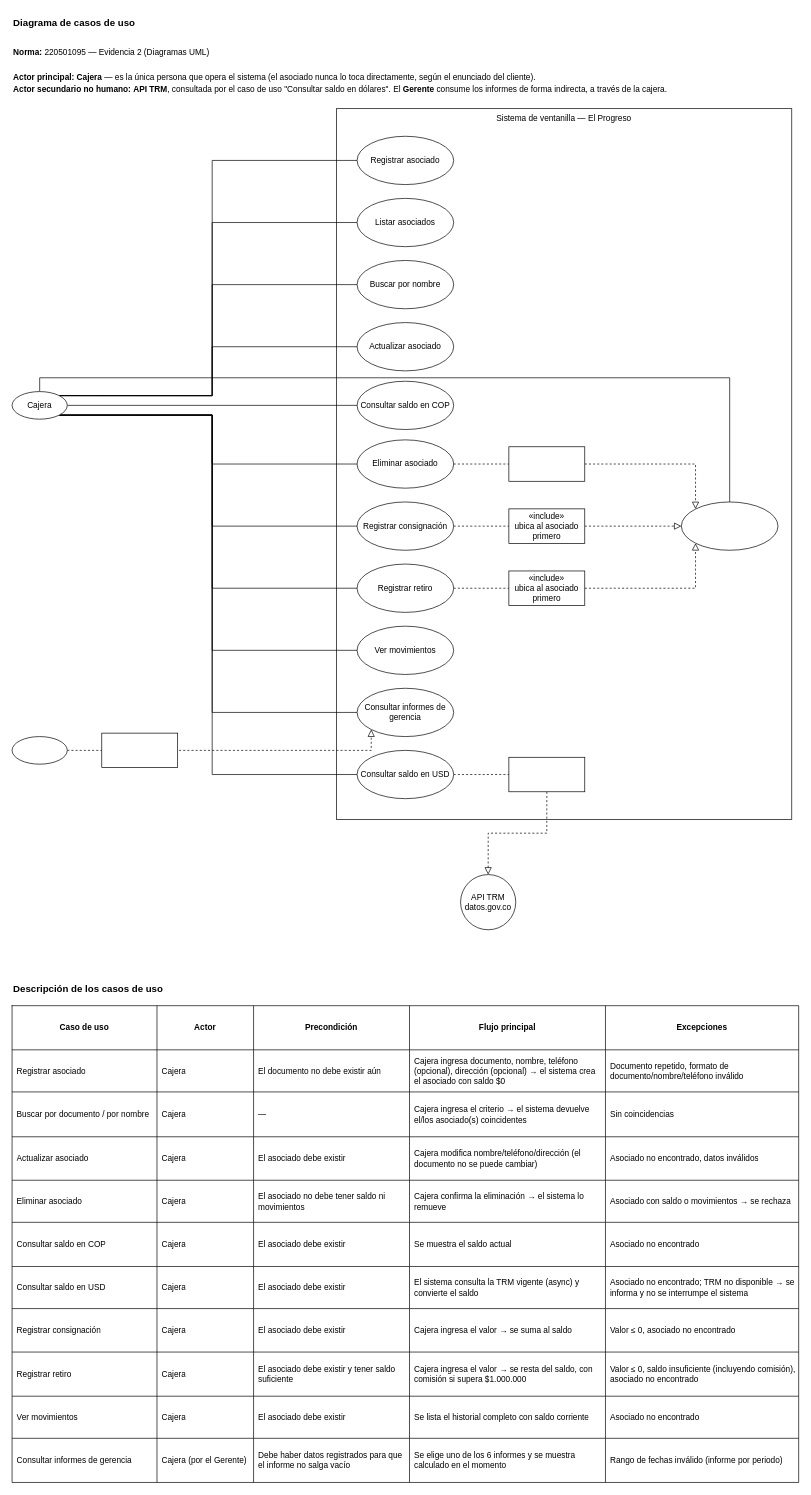
This 811x1495 diagram has some shape labels left out. The box of each missing label's shape, as (x1, y1, x2, y2) in pixels:
Buscar por documento: (681, 501, 778, 550)
consume vía la cajera: (101, 732, 178, 768)
Gerent: (11, 736, 67, 764)
«extend» solo si no tiene saldo/movimientos: (508, 446, 585, 481)
«include» obtiene la TRM vigente: (508, 757, 585, 792)
